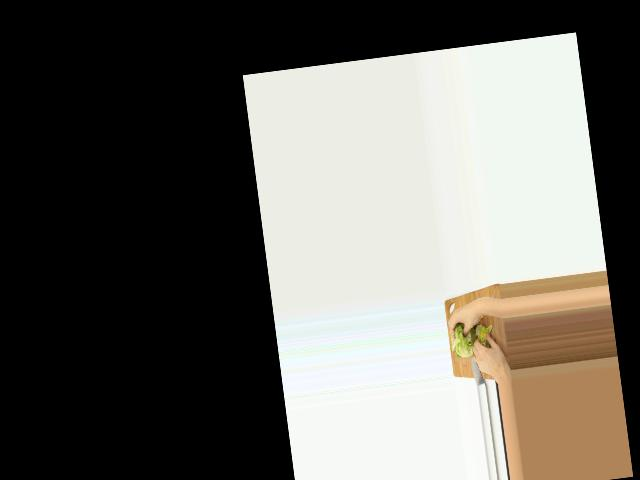lettuce: (449, 323, 476, 359)
